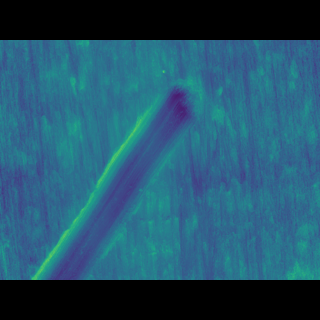Loch: (28, 95, 204, 250)
